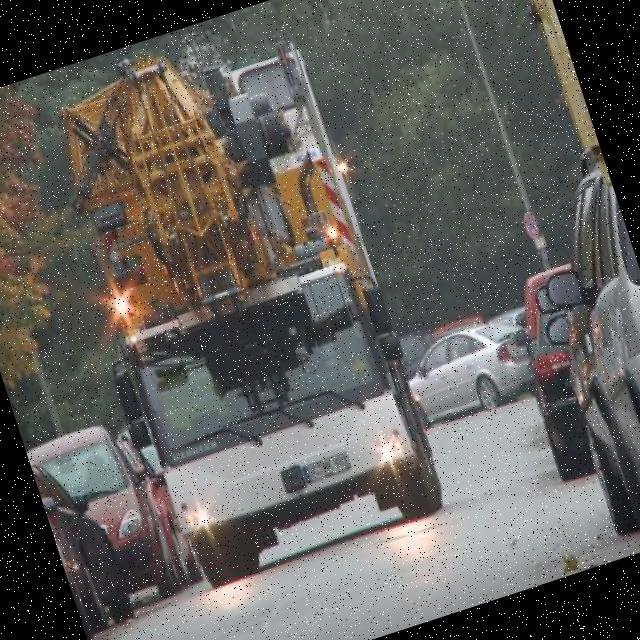Mobile Crane: (17, 4, 453, 600)
